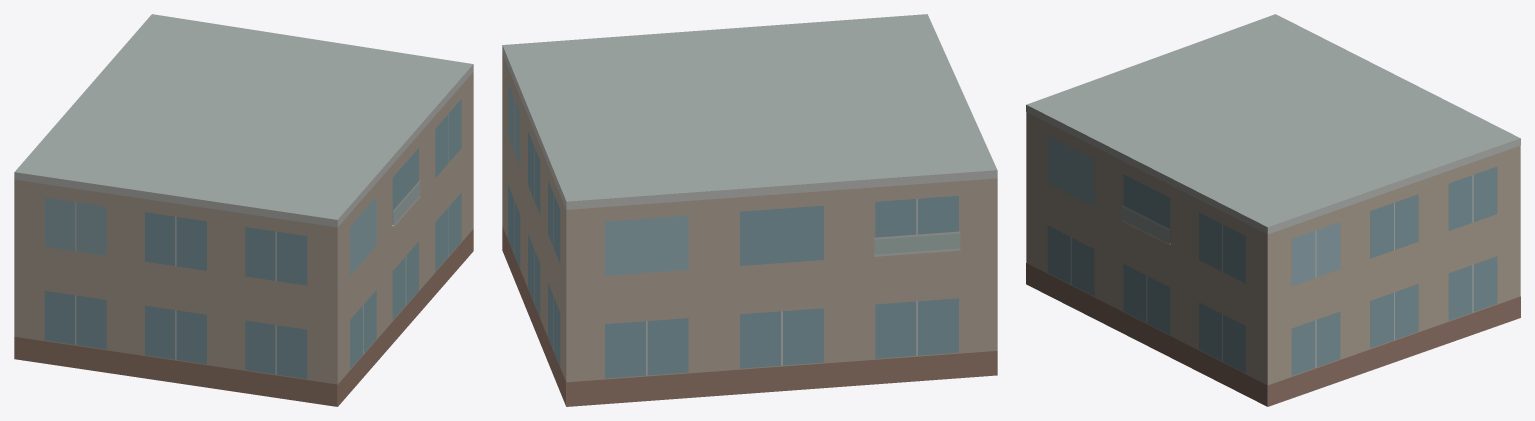
Rendered from survey-upis-32849198.glb.
The picture shows the model from 3 angles, left to right: view 1: azimuth 30°, elevation 25°; view 2: azimuth 150°, elevation 25°; view 3: azimuth 270°, elevation 25°; orthographic projection. The views are drawn at different scales.
Parts seen in each view (by area): view 1: survey-upis-32849198.tmp; view 2: survey-upis-32849198.tmp; view 3: survey-upis-32849198.tmp.
Boxes of the visible parts, x1=… form: survey-upis-32849198.tmp: x1=14, y1=14, x2=473, y2=406; survey-upis-32849198.tmp: x1=502, y1=14, x2=997, y2=406; survey-upis-32849198.tmp: x1=1026, y1=14, x2=1520, y2=406.
Bounding box in the file's own units: 15.55 × 6.1 × 15.23.
